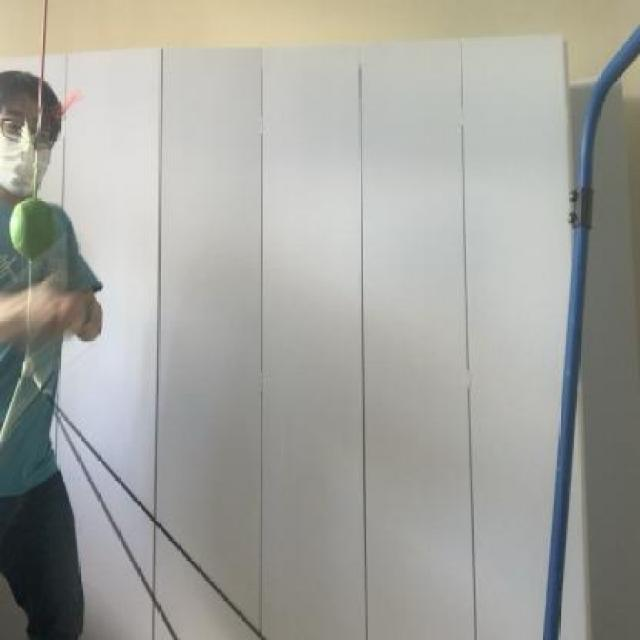baseball: (6, 189, 66, 269)
